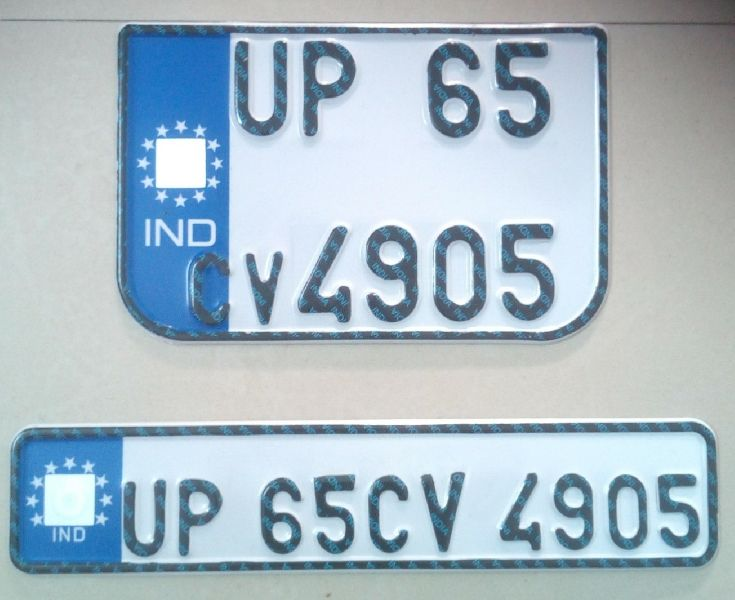number_plate: (115, 20, 606, 341), (6, 421, 719, 573)
